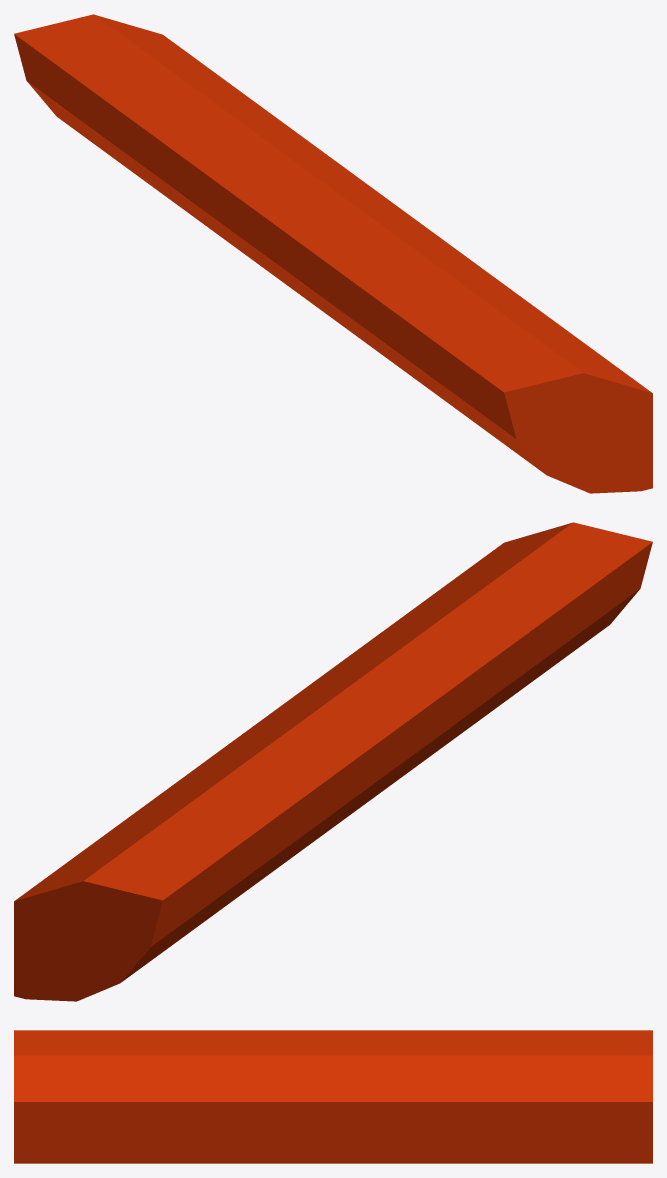
3 renders of one model, top to bottom at view 1: azimuth 30°, elevation 25°; view 2: azimuth 150°, elevation 25°; view 3: azimuth 270°, elevation 25°, orthographic. The views are drawn at different scales.
Bounding box in the file's own units: 0.6322 × 0.5362 × 3.6.
